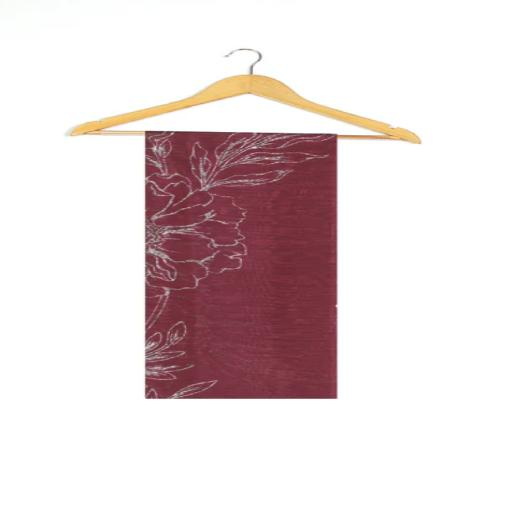Dupatta: (118, 122, 348, 405)
